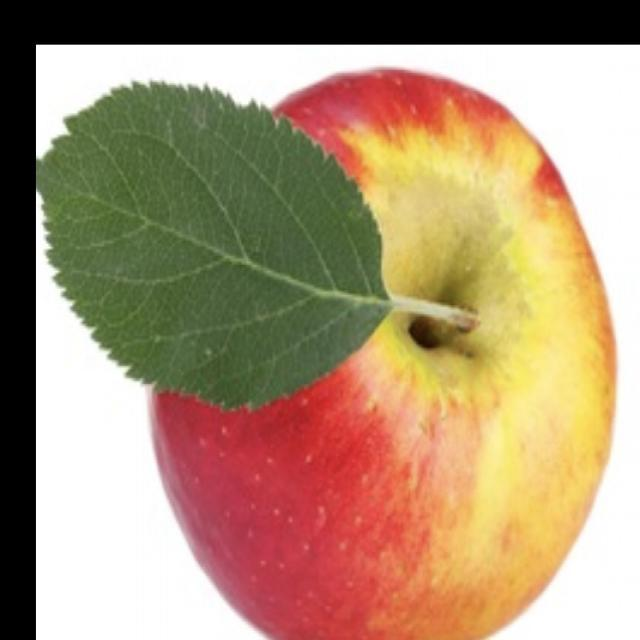Fresh Apple: (192, 80, 613, 640)
